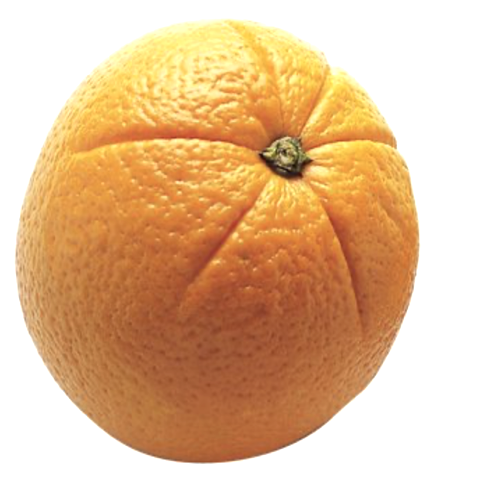orange: (1, 15, 456, 470)
